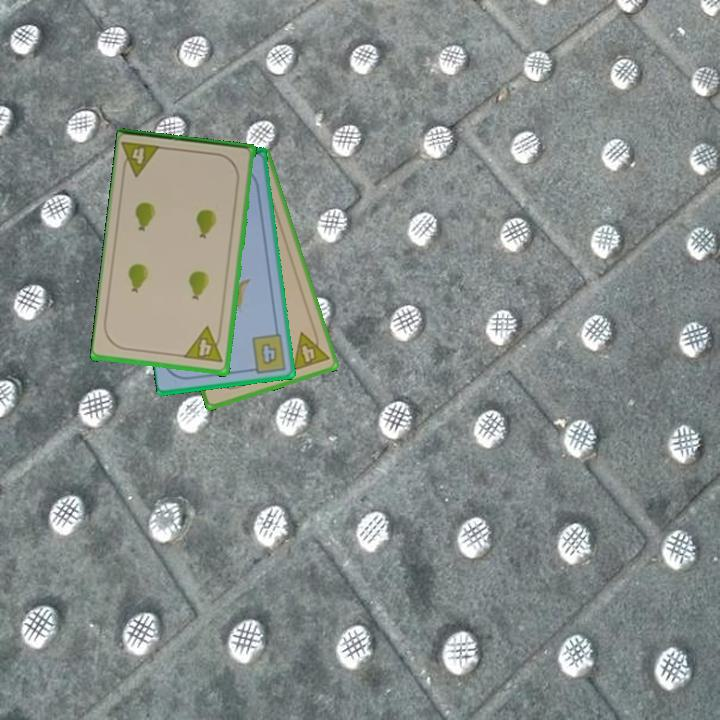4b: (246, 331, 289, 376)
4p: (289, 325, 332, 374), (118, 138, 165, 180), (181, 324, 226, 366)
